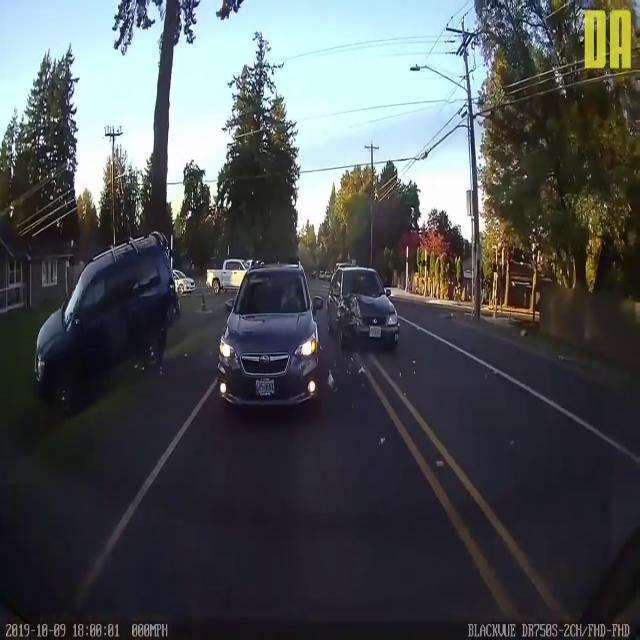accident: (36, 230, 180, 406), (332, 267, 400, 349)
